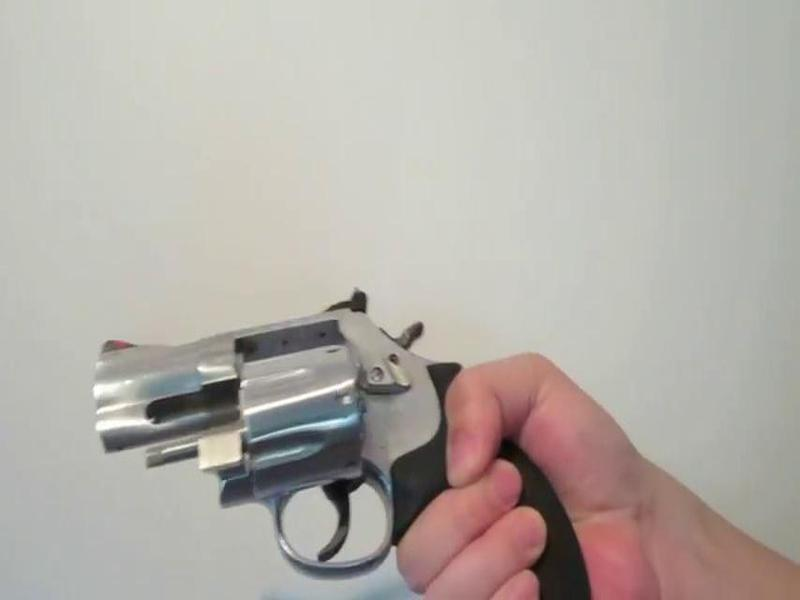Revolver: (80, 270, 615, 600)
